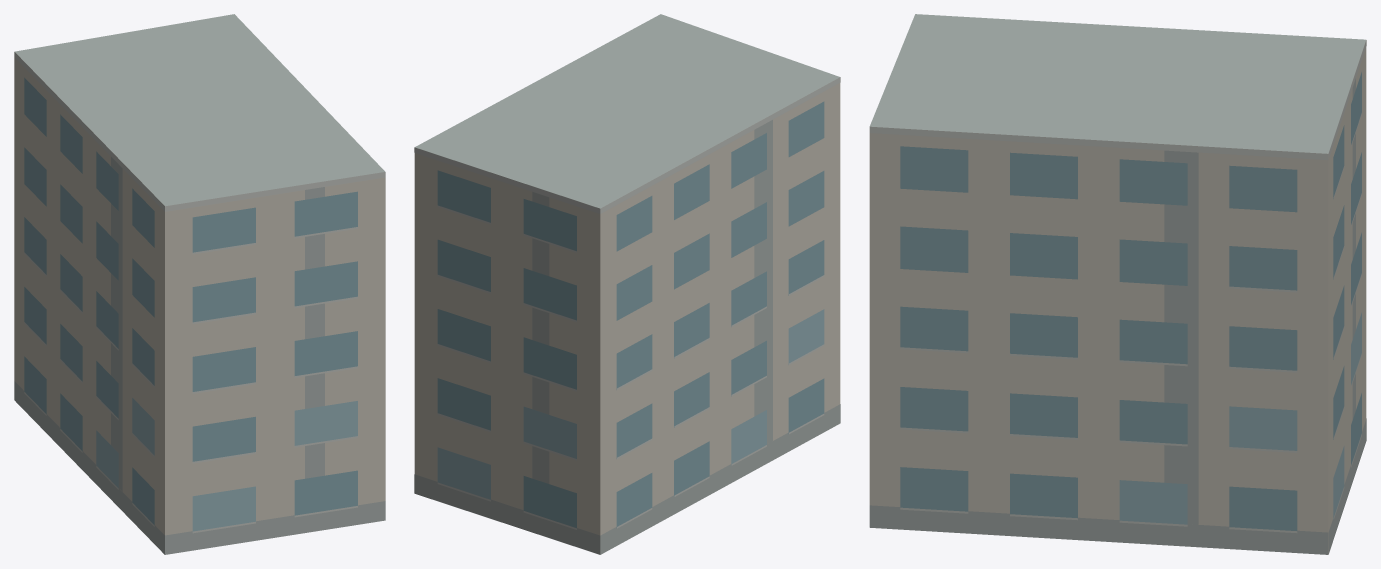
Rendered from survey-upis-32997241.glb.
3 views of the same model, side by side, from view 1: azimuth 30°, elevation 25°; view 2: azimuth 150°, elevation 25°; view 3: azimuth 270°, elevation 25° (orthographic). The views are drawn at different scales.
Visible parts, largest first — view 1: survey-upis-32997241.tmp; view 2: survey-upis-32997241.tmp; view 3: survey-upis-32997241.tmp.
Part boxes in pixels (x1,y1,x2,y2): survey-upis-32997241.tmp: [14, 14, 385, 554]; survey-upis-32997241.tmp: [414, 14, 840, 554]; survey-upis-32997241.tmp: [869, 14, 1366, 554].
Bounding box in the file's own units: 11.42 × 15.25 × 17.14.
